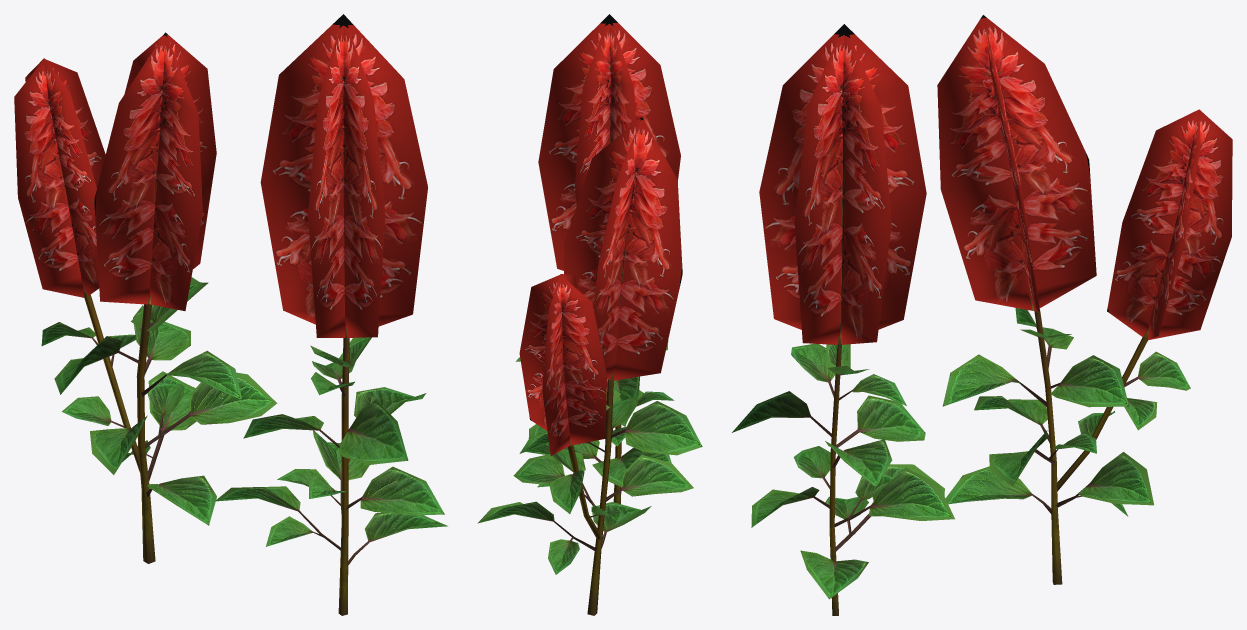
The model's file is Salvia splendens.FBX.
3 views of the same model, side by side, from view 1: azimuth 30°, elevation 25°; view 2: azimuth 150°, elevation 25°; view 3: azimuth 270°, elevation 25° (orthographic). The views are drawn at different scales.
Visible parts, largest first — view 1: Salvia splendens_001, Salvia splendens001; view 2: Salvia splendens_001, Salvia splendens001; view 3: Salvia splendens_001, Salvia splendens001.
Boxes of the visible parts, left/top/right/bottom form: Salvia splendens_001: left=14, top=32, right=277, bottom=563; Salvia splendens001: left=215, top=14, right=447, bottom=615; Salvia splendens_001: left=477, top=117, right=702, bottom=615; Salvia splendens001: left=516, top=14, right=680, bottom=504; Salvia splendens_001: left=937, top=15, right=1232, bottom=584; Salvia splendens001: left=732, top=24, right=954, bottom=615.
Bounding box in the file's own units: 43.22 × 84.96 × 64.12.
